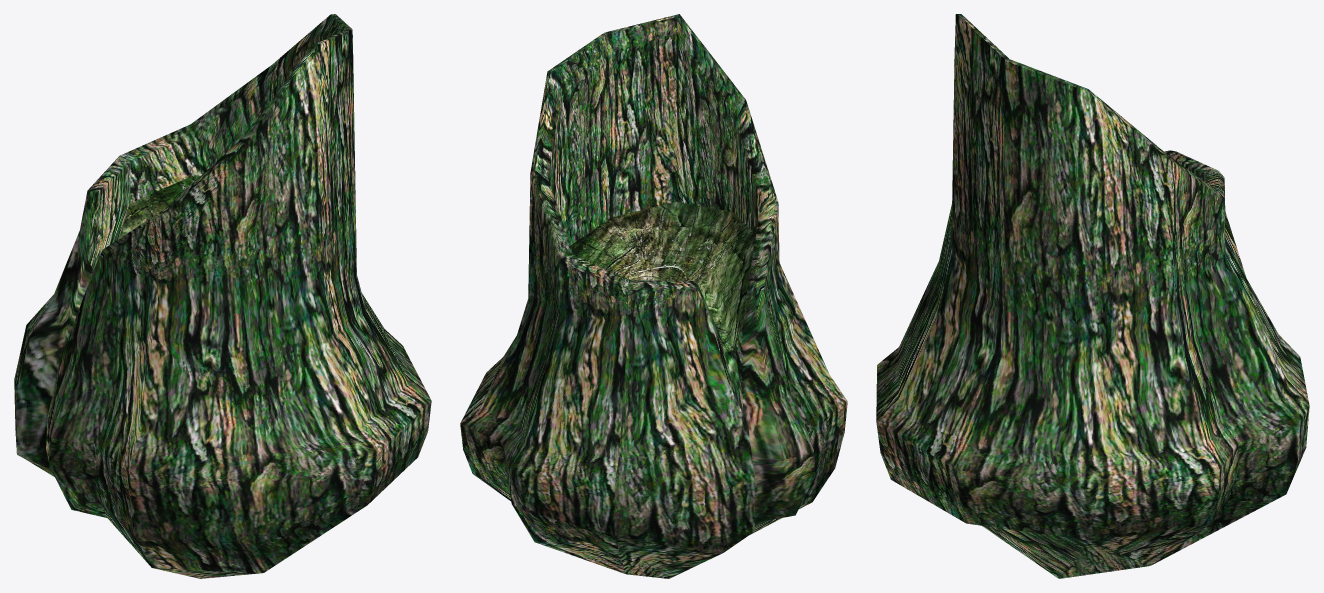
File: frst_conf_redwoodstump_sm_l0.fbx
The picture shows the model from 3 angles, left to right: view 1: azimuth 30°, elevation 25°; view 2: azimuth 150°, elevation 25°; view 3: azimuth 270°, elevation 25°; orthographic projection. The views are drawn at different scales.
Parts seen in each view (by area): view 1: mesh_node; view 2: mesh_node; view 3: mesh_node.
Boxes of the visible parts, x1,y1,x2,y2 form: mesh_node: [14, 14, 431, 578]; mesh_node: [460, 14, 847, 578]; mesh_node: [876, 14, 1309, 578].
Size of the model in its own units: 4.1 by 6.02 by 4.16.
